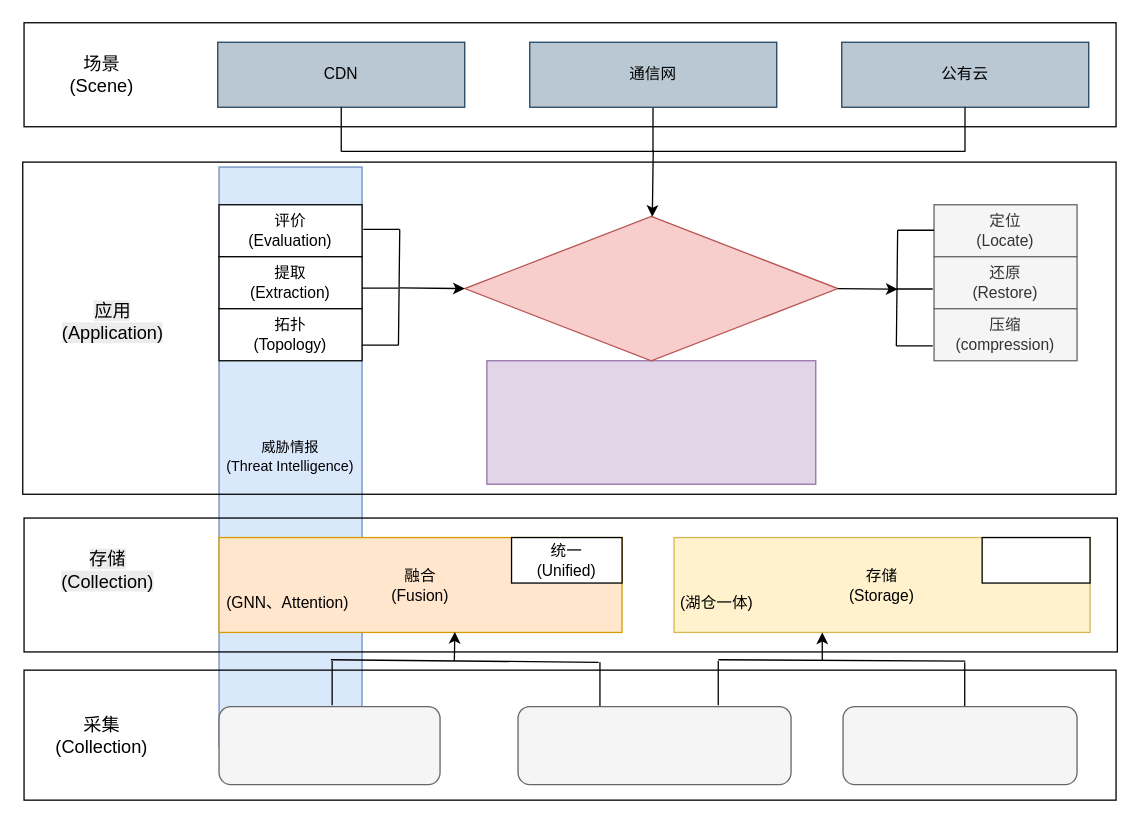
Image size: 1140x823. Some labels were removed from this diagram. The centre of each missing label's shape, as x and y in pixels:
"业务数据 (Business Data)" goes at (959,745).
"外部数据 (External Data)" goes at (329,745).
"智能 (Intelligent)" goes at (651,421).
"标准化 (Standardized)" goes at (1035,559).
"溯源 (Attribution)" goes at (650,288).
"通信网大数据 (Comm. Network Big Data)" goes at (654,745).
